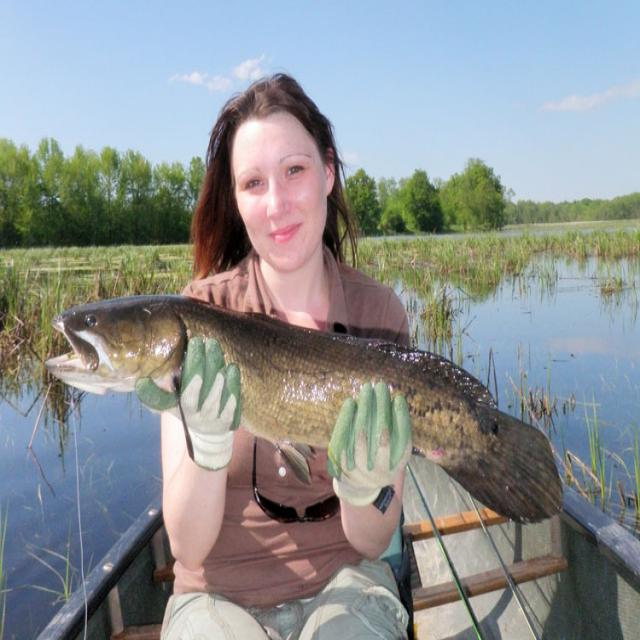Bowfin: (52, 295, 561, 521)
